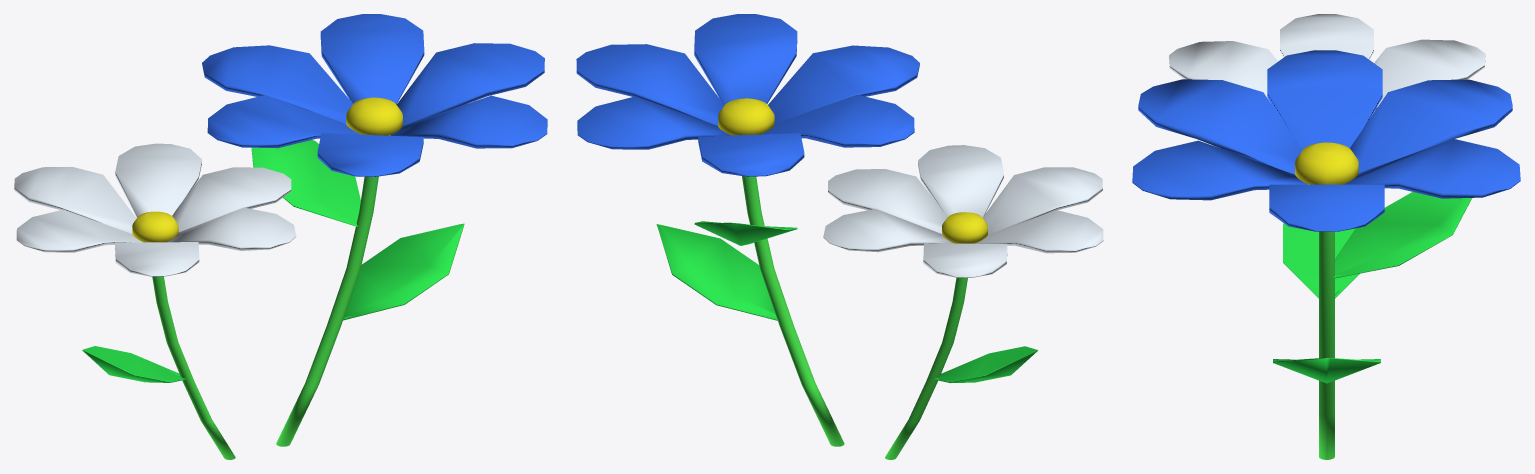
The model's file is flower.fbx.
The picture shows the model from 3 angles, left to right: view 1: azimuth 30°, elevation 25°; view 2: azimuth 150°, elevation 25°; view 3: azimuth 270°, elevation 25°; orthographic projection. The views are drawn at different scales.
Visible parts, largest first — view 1: Cube.004; view 2: Cube.004; view 3: Cube.004.
Part boxes in pixels (left/top/right/bottom): Cube.004: left=14, top=14, right=547, bottom=459; Cube.004: left=576, top=14, right=1103, bottom=459; Cube.004: left=1132, top=14, right=1520, bottom=459.
Size of the model in its own units: 215 by 130 by 124.
